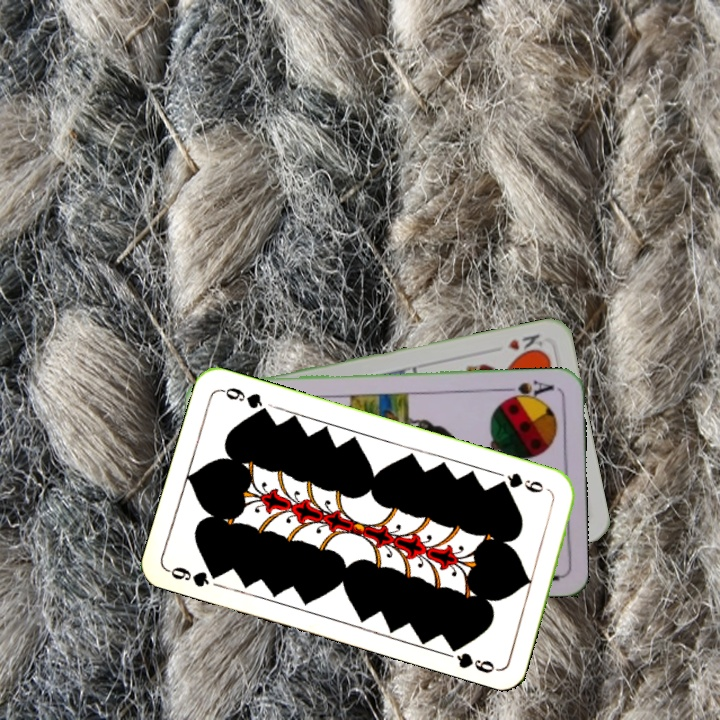G9: (164, 562, 225, 590), (494, 469, 546, 496)
HK: (503, 330, 547, 359)
SA: (499, 376, 556, 403)
